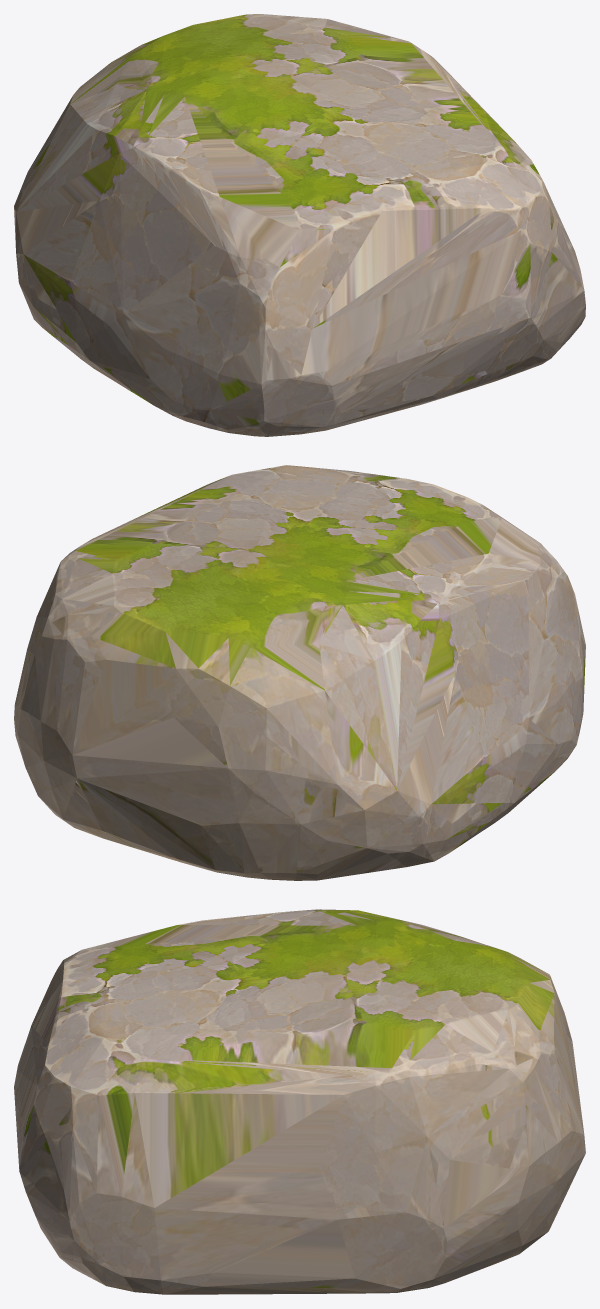
File: Escalon_rocoso_closed.glb
3 views of the same model, one above another, from view 1: azimuth 30°, elevation 25°; view 2: azimuth 150°, elevation 25°; view 3: azimuth 270°, elevation 25° (orthographic). The views are drawn at different scales.
Visible parts, largest first — view 1: tripo_node_4ac99dc6-6150-4dbd-8fb6-089b0a2892ee; view 2: tripo_node_4ac99dc6-6150-4dbd-8fb6-089b0a2892ee; view 3: tripo_node_4ac99dc6-6150-4dbd-8fb6-089b0a2892ee.
Part boxes in pixels (left/top/right/bottom): tripo_node_4ac99dc6-6150-4dbd-8fb6-089b0a2892ee: left=14, top=14, right=585, bottom=436; tripo_node_4ac99dc6-6150-4dbd-8fb6-089b0a2892ee: left=14, top=465, right=585, bottom=880; tripo_node_4ac99dc6-6150-4dbd-8fb6-089b0a2892ee: left=14, top=909, right=585, bottom=1294.
Size of the model in its own units: 0.8765 by 0.4458 by 0.9995.
Materials: 1 (1 with a texture image).
